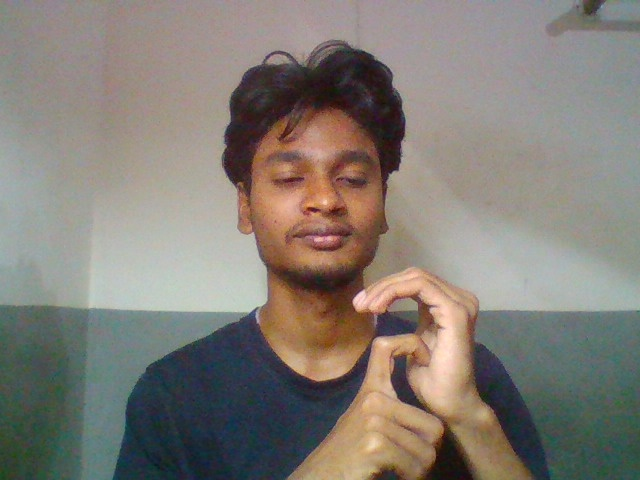G: (347, 261, 515, 480)
